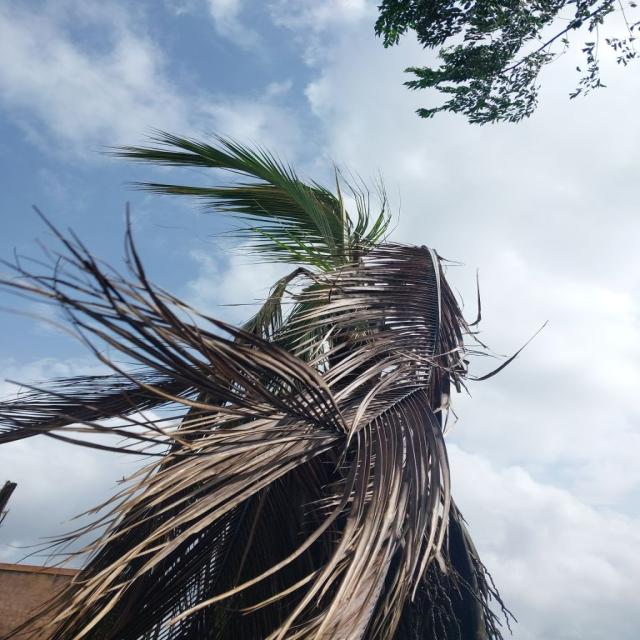bud root dropping: (3, 132, 505, 640)
